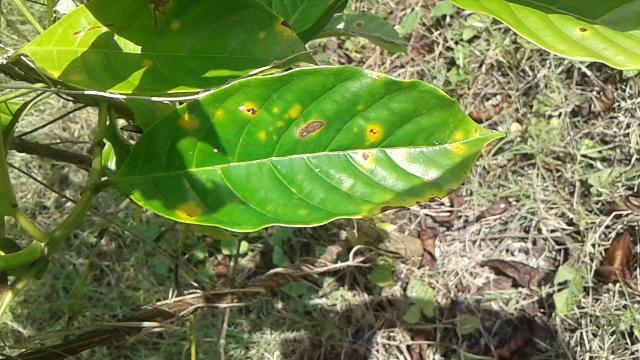rust_level_3: (109, 64, 516, 234)
